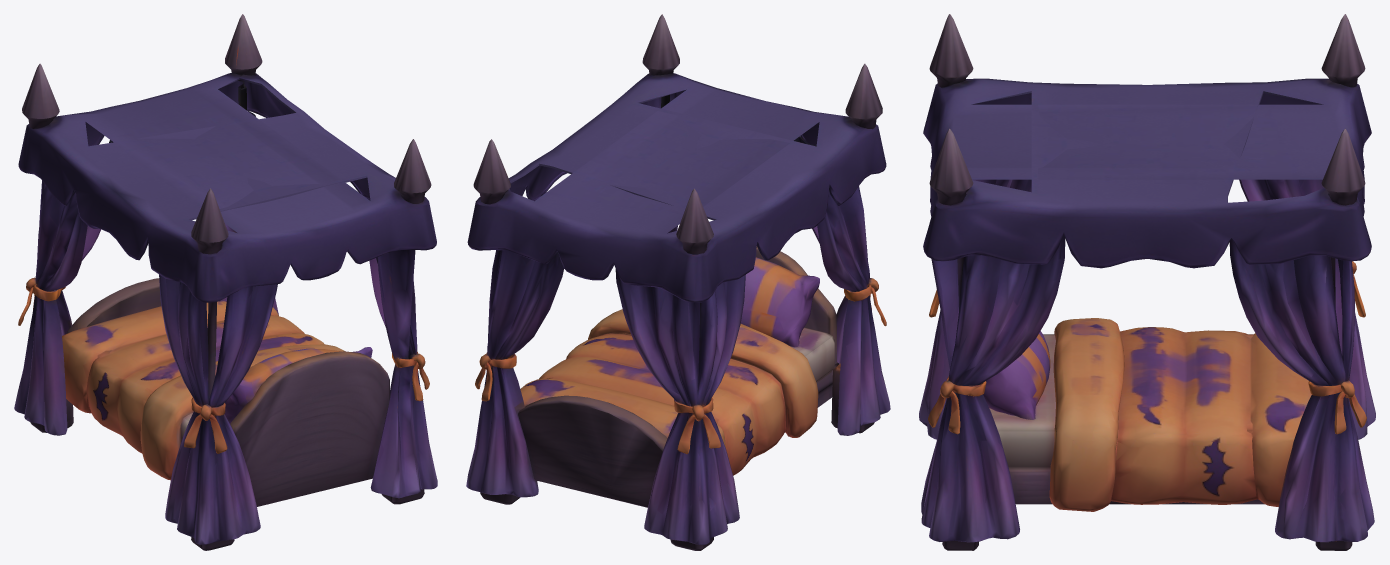
File: S5_WitchBed_LOD1.fbx
The picture shows the model from 3 angles, left to right: view 1: azimuth 30°, elevation 25°; view 2: azimuth 150°, elevation 25°; view 3: azimuth 270°, elevation 25°; orthographic projection. The views are drawn at different scales.
Parts seen in each view (by area): view 1: S5_WitchBed_LOD1; view 2: S5_WitchBed_LOD1; view 3: S5_WitchBed_LOD1.
Boxes of the visible parts, x1,y1,x2,y2 form: S5_WitchBed_LOD1: [14, 14, 437, 550]; S5_WitchBed_LOD1: [466, 14, 890, 550]; S5_WitchBed_LOD1: [919, 14, 1375, 550].
Bounding box in the file's own units: 1.39 × 1.9 × 1.88.
1 material, 1 textured.
